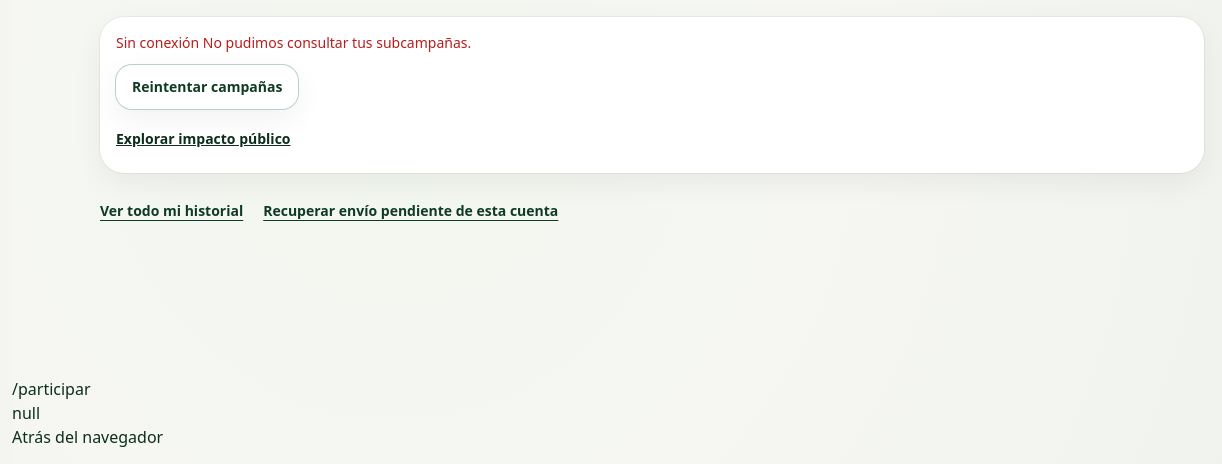
Test: UX-01: selección de subcampaña › distingue error de capacidades de vacío sin otro acceso a borradores
The width and height of the screenshot is (1222, 464).
Expected: the text "Sin conexión No pudimos consultar tus subcampañas." is shown, [116,33,471,52]
Expected: the text "Todavía no tienes subcampañas asignadas" is not shown
Click the button "Reintentar campañas": {"x": 207, "y": 87} [116,65,298,109]
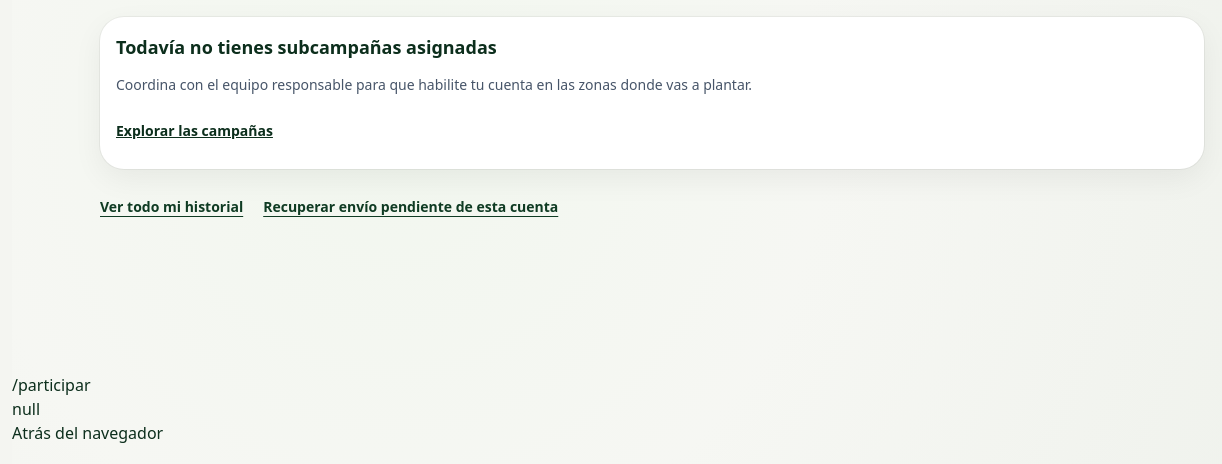
Expected: the link "Ver todo mi historial" is shown, [100,197,243,216]
Expected: the heading "Todavía no tienes subcampañas asignadas" is shown, [116,35,497,59]
